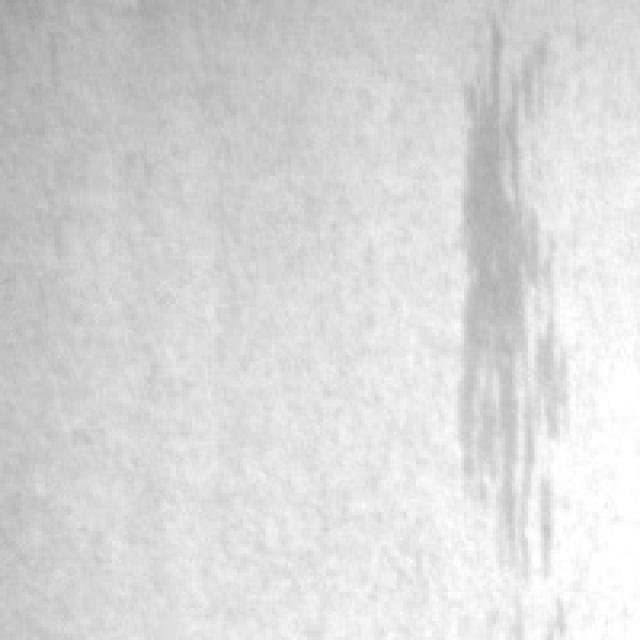inclusion: (451, 3, 576, 586)
